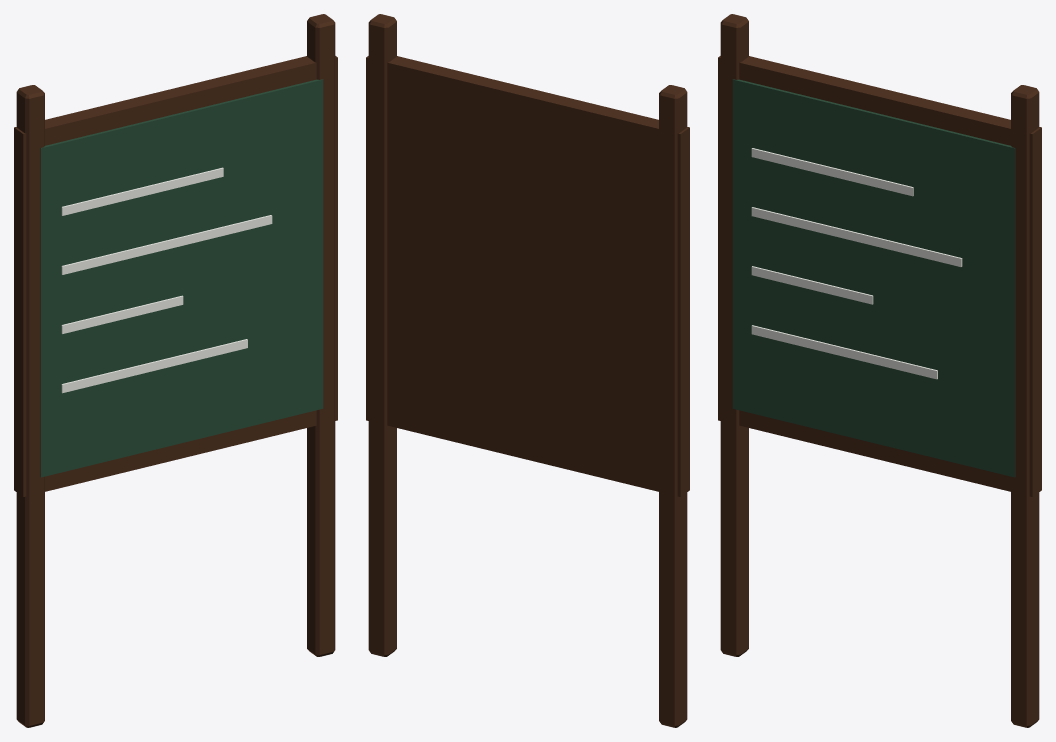
Rendered from chalkboard_stand.obj.
3 views of the same model, side by side, from view 1: azimuth 30°, elevation 25°; view 2: azimuth 150°, elevation 25°; view 3: azimuth 330°, elevation 25° (orthographic).
Parts seen in each view (by area): view 1: chalkboard_stand; view 2: chalkboard_stand; view 3: chalkboard_stand.
Boxes of the visible parts, x1,y1,x2,y2 form: chalkboard_stand: (14, 14, 337, 727); chalkboard_stand: (366, 14, 689, 727); chalkboard_stand: (718, 14, 1041, 727).
Size of the model in its own units: 0.78 by 1.5 by 0.057.
